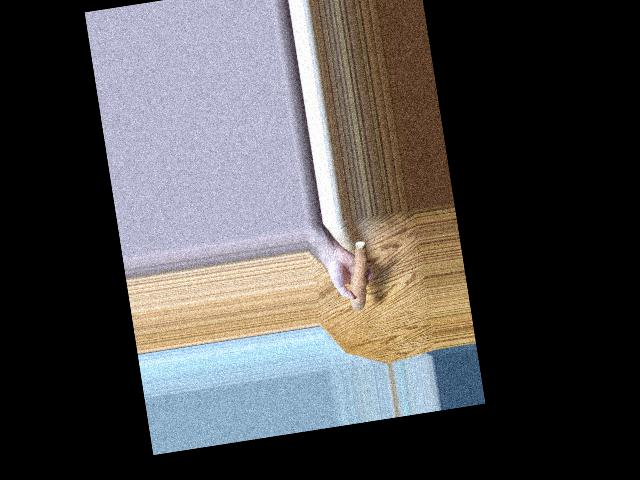sweet_potato: (345, 237, 374, 314)
